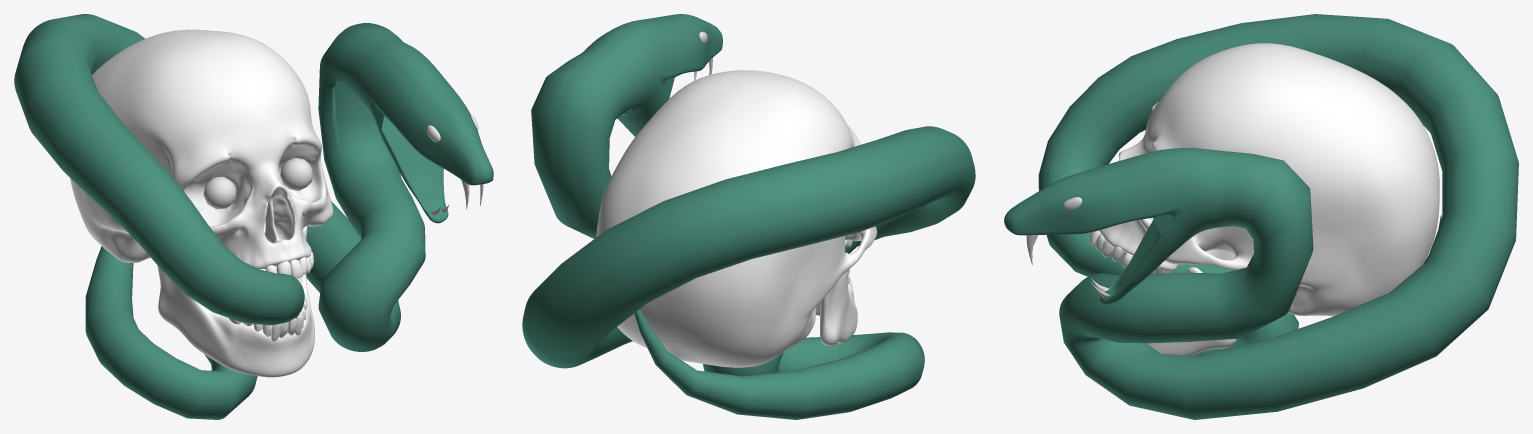
The model's file is darkmark.fbx.
3 views of the same model, side by side, from view 1: azimuth 30°, elevation 25°; view 2: azimuth 150°, elevation 25°; view 3: azimuth 270°, elevation 25° (orthographic). The views are drawn at different scales.
Visible parts, largest first — view 1: Snake, Skull; view 2: Snake, Skull; view 3: Snake, Skull.
Part boxes in pixels (x1=…): Snake: x1=14, y1=14, x2=493, y2=419; Skull: x1=70, y1=29, x2=333, y2=377; Snake: x1=522, y1=14, x2=975, y2=419; Skull: x1=596, y1=70, x2=877, y2=367; Snake: x1=1004, y1=14, x2=1518, y2=419; Skull: x1=1089, y1=43, x2=1439, y2=355.
Bounding box in the file's own units: 3804 × 3277 × 4581.
